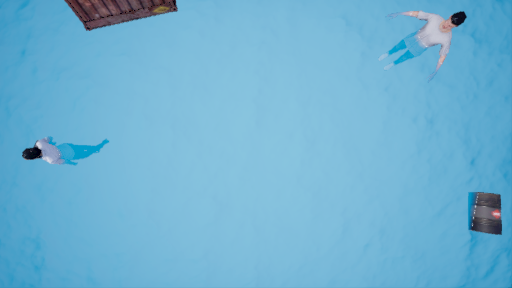person: (372, 1, 463, 89)
